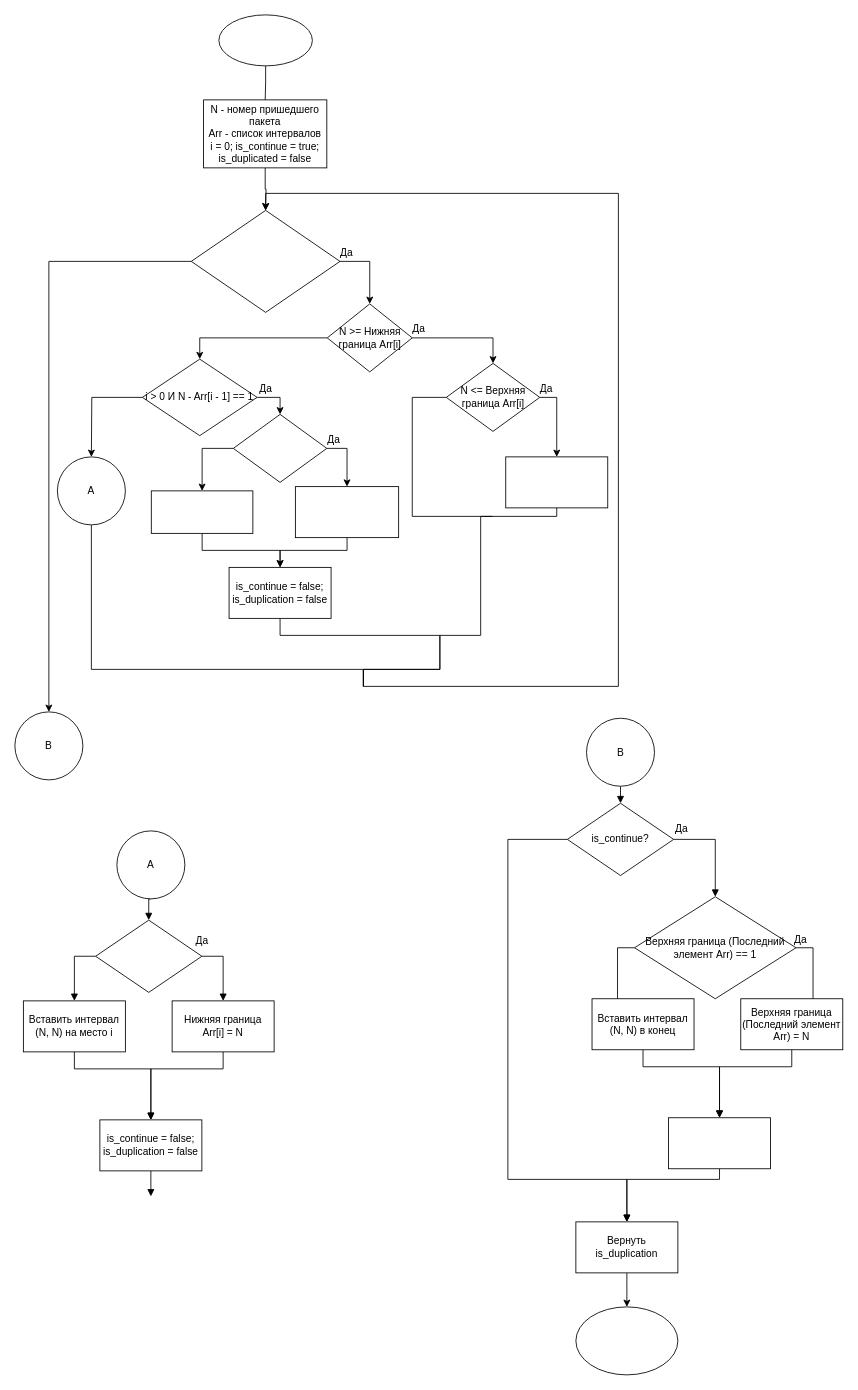
Some shapes in this 858 by 1390 pixel diagram are drawn without their labels. Each missing label, with the centre of its shape:
"i < длина Arr и is_continue ?" goes at point (265, 261).
"is_continue = false; is_duplication = true" goes at point (556, 482).
"is_duplication = false" goes at point (719, 1143).
"N - Arr[i] == 1" goes at point (279, 448).
"N - Нижняя граница Arr[i] == 1" goes at point (148, 955).
"Верхняя граница Arr[i - 1] += 1;" goes at point (201, 511).
"Верхняя граница Arr[i - 1] = Верхняя граница Arr[i]; Удалить Arr[i];" goes at point (347, 512).
"Конец" goes at point (626, 1340).
"Начало" goes at point (265, 40).
